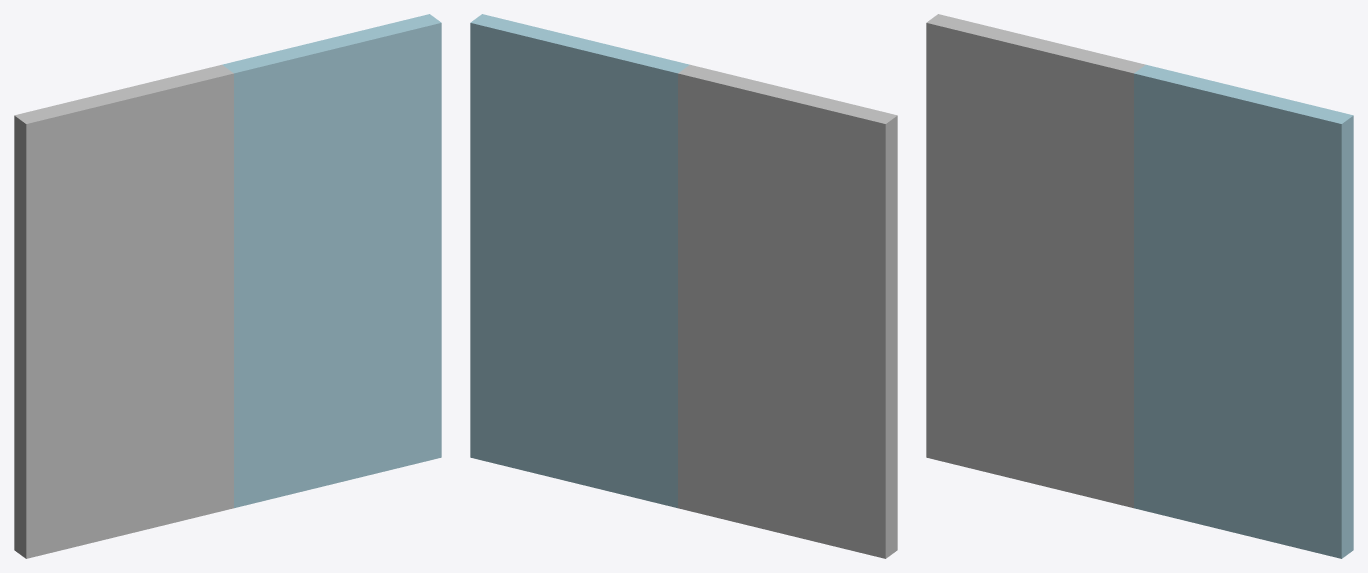
File: Windows.fbx
The picture shows the model from 3 angles, left to right: view 1: azimuth 30°, elevation 25°; view 2: azimuth 150°, elevation 25°; view 3: azimuth 330°, elevation 25°; orthographic projection.
Visible parts, largest first — view 1: Window.001; view 2: Window.001; view 3: Window.001.
Boxes of the visible parts, x1=… form: Window.001: x1=14, y1=14, x2=441, y2=558; Window.001: x1=470, y1=14, x2=897, y2=558; Window.001: x1=926, y1=14, x2=1353, y2=558.
Bounding box in the file's own units: 2 × 2 × 0.1.
